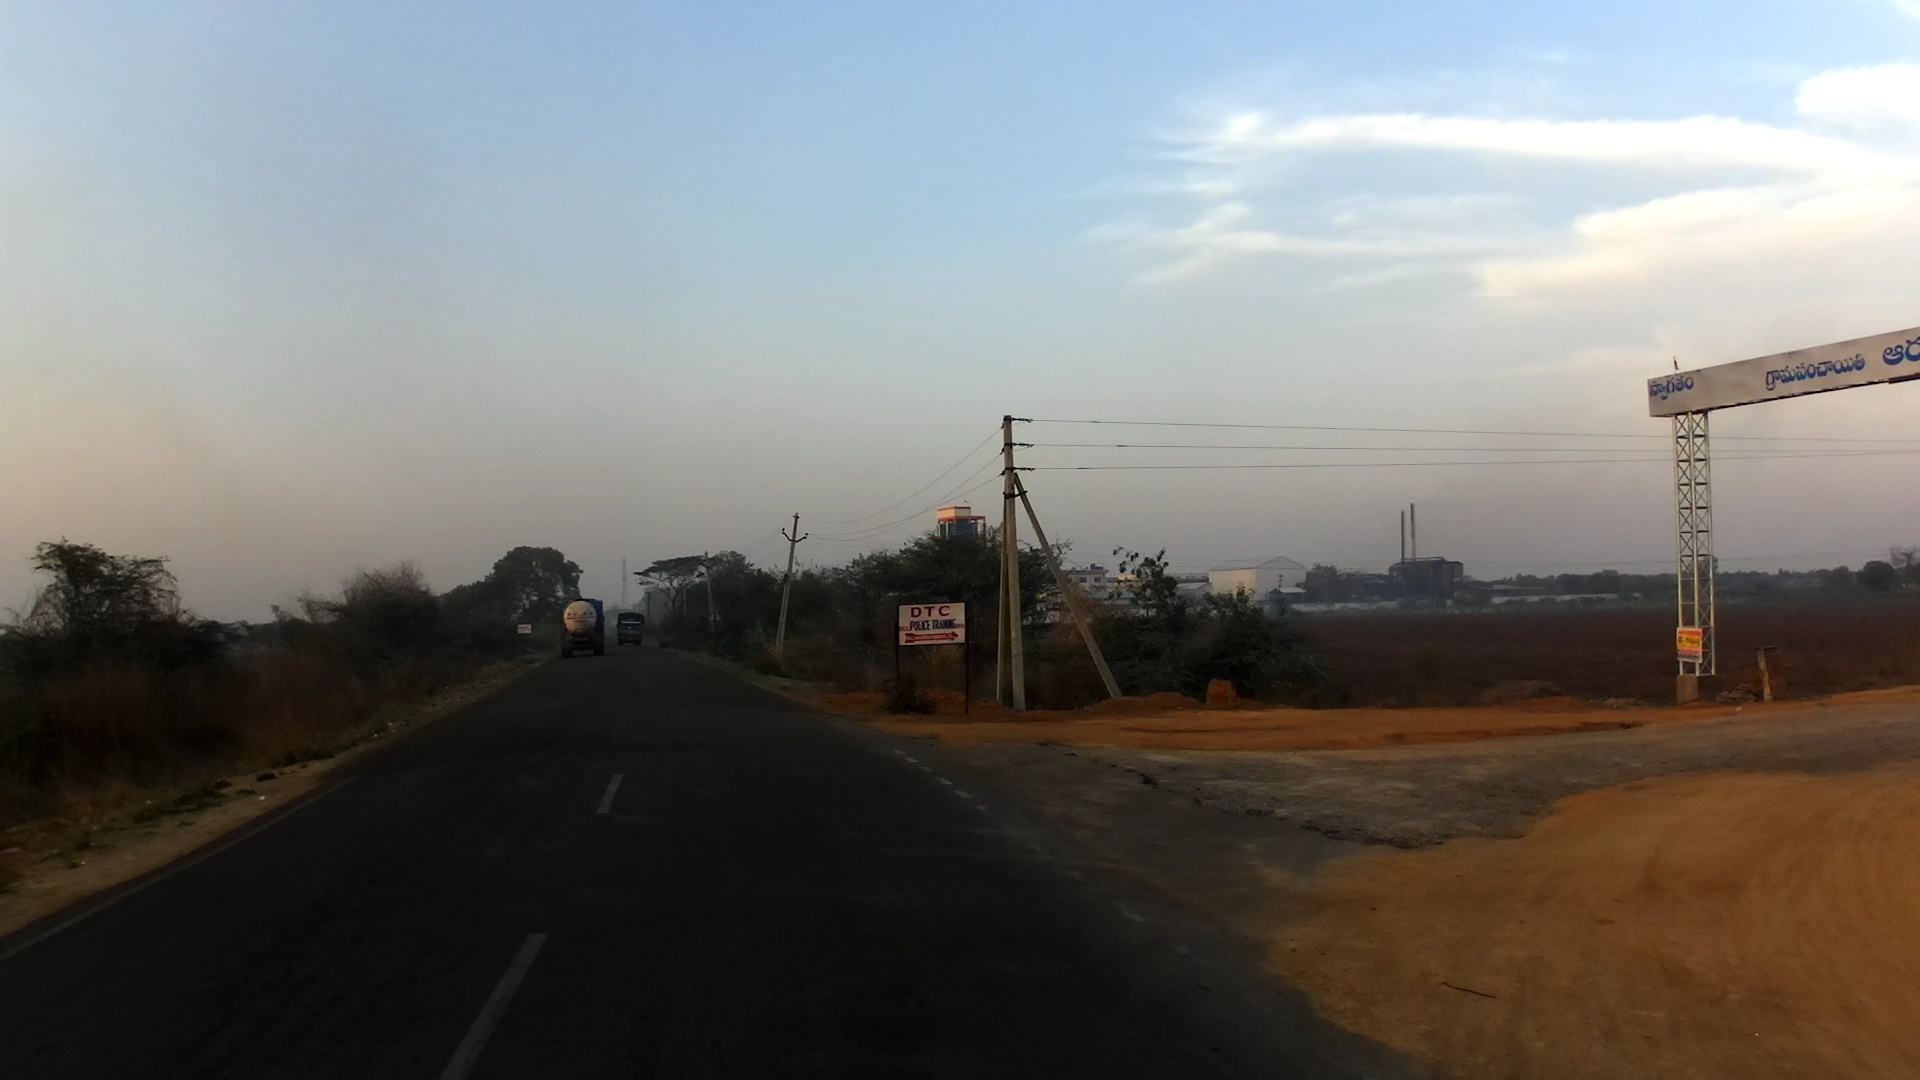truck: (560, 595, 607, 663), (616, 615, 647, 653)
